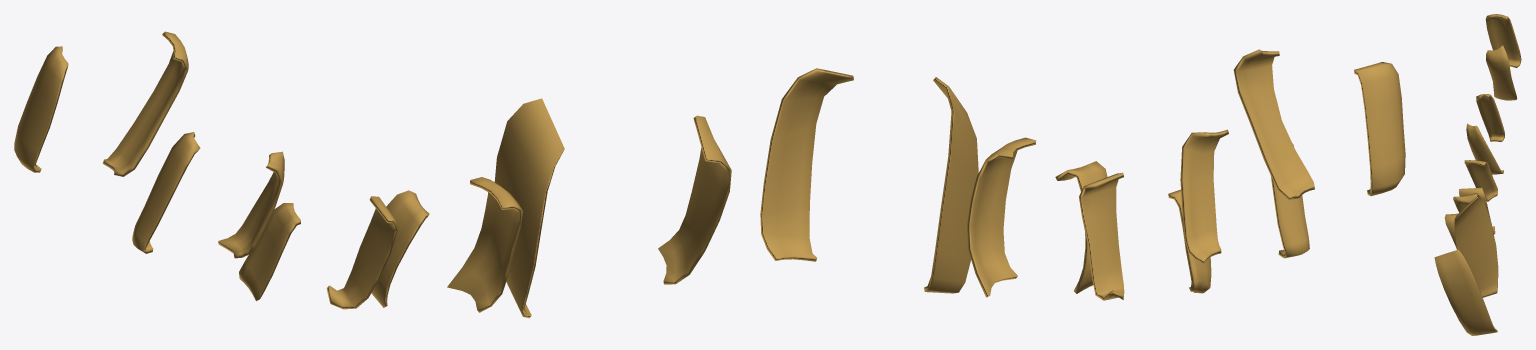
The picture shows the model from 3 angles, left to right: view 1: azimuth 30°, elevation 25°; view 2: azimuth 150°, elevation 25°; view 3: azimuth 270°, elevation 25°; orthographic projection. The views are drawn at different scales.
Parts seen in each view (by area): view 1: 右侧跖趾关节侧副韧带; view 2: 右侧跖趾关节侧副韧带; view 3: 右侧跖趾关节侧副韧带.
Boxes of the visible parts, x1=… form: 右侧跖趾关节侧副韧带: x1=14, y1=31, x2=731, y2=318; 右侧跖趾关节侧副韧带: x1=760, y1=49, x2=1405, y2=300; 右侧跖趾关节侧副韧带: x1=1434, y1=14, x2=1521, y2=335.
Size of the model in its own units: 0.121 by 0.0625 by 0.0278.
